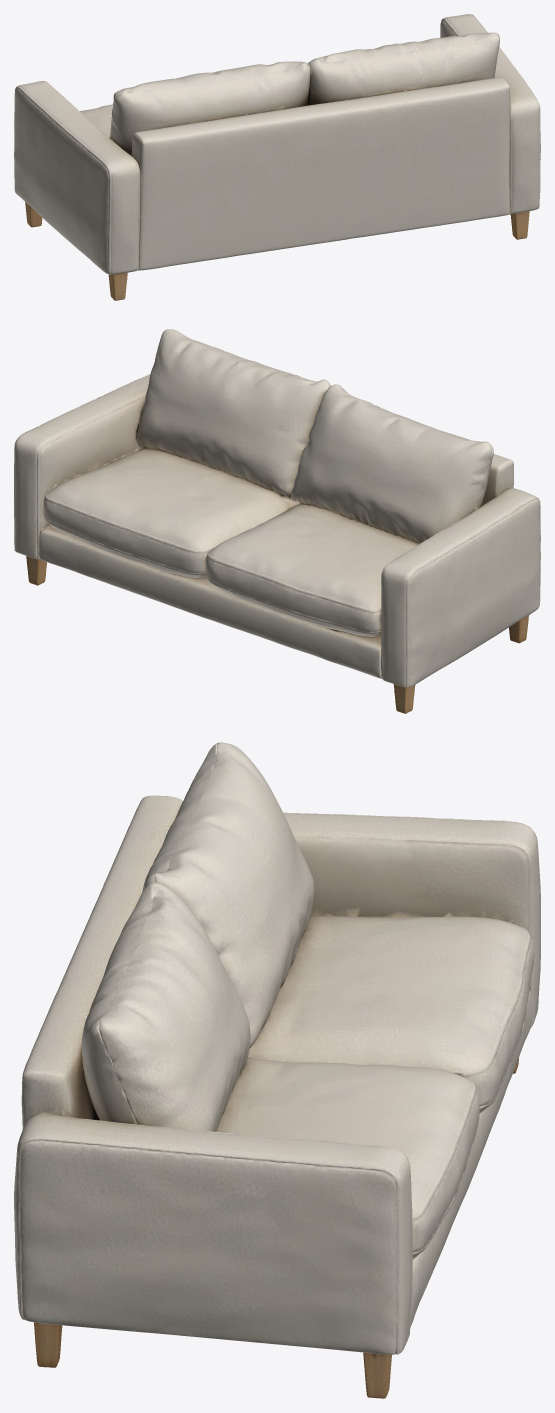
The model's file is sofa-tripo.glb.
3 views of the same model, one above another, from view 1: azimuth 30°, elevation 25°; view 2: azimuth 150°, elevation 25°; view 3: azimuth 270°, elevation 25° (orthographic). The views are drawn at different scales.
Visible parts, largest first — view 1: tripo_node_508f23d4-3aa4-4415-98cf-fa55f247c597; view 2: tripo_node_508f23d4-3aa4-4415-98cf-fa55f247c597; view 3: tripo_node_508f23d4-3aa4-4415-98cf-fa55f247c597.
Part boxes in pixels (x1,y1,x2,y2): tripo_node_508f23d4-3aa4-4415-98cf-fa55f247c597: (14, 14, 540, 300); tripo_node_508f23d4-3aa4-4415-98cf-fa55f247c597: (14, 329, 540, 713); tripo_node_508f23d4-3aa4-4415-98cf-fa55f247c597: (14, 742, 540, 1398).
Bounding box in the file's own units: 0.98 × 0.4228 × 0.5996.
Materials: 1 (1 with a texture image).
